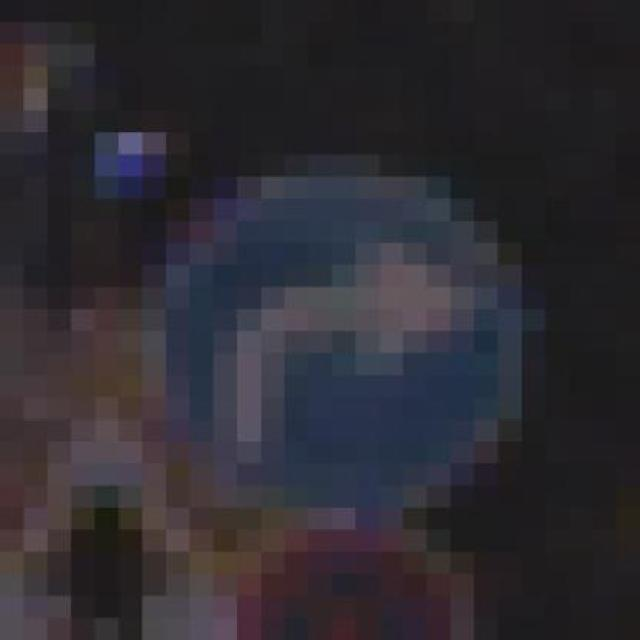Turn right ahead: (129, 155, 556, 530)
